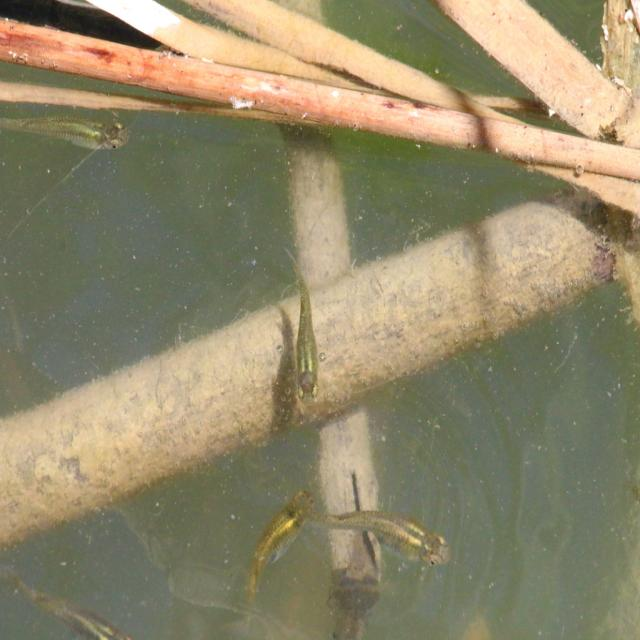Sivrisinek Baligi: (310, 484, 460, 572), (234, 476, 318, 609), (0, 93, 131, 164), (280, 249, 334, 418)
